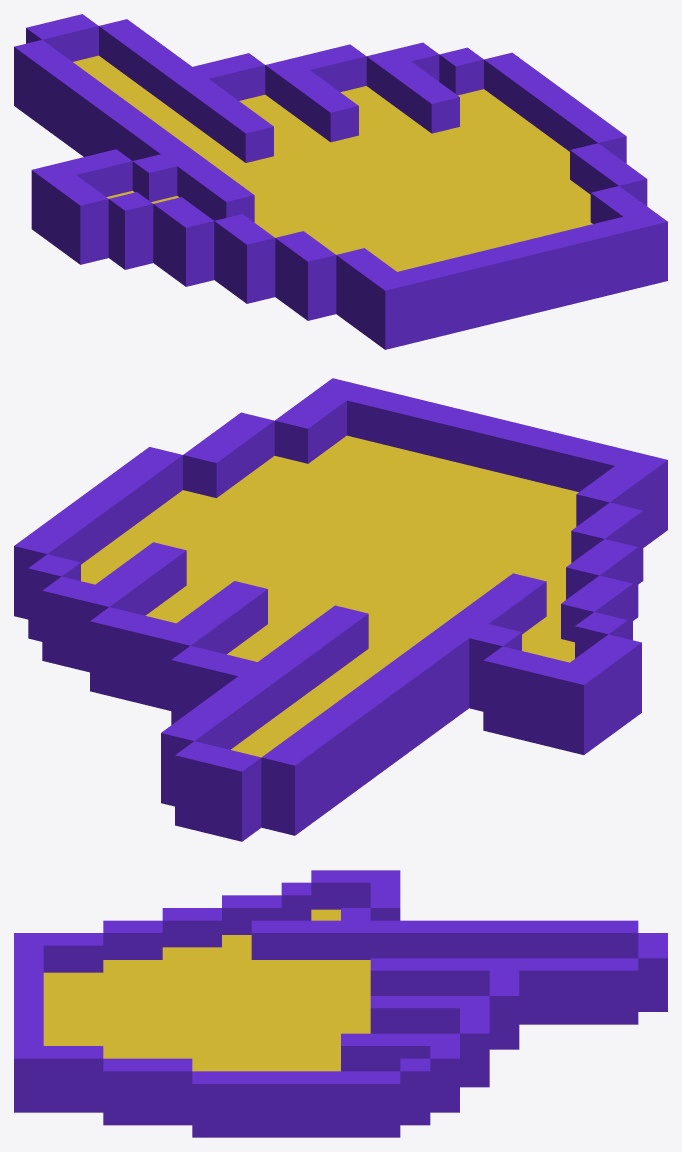
The model's file is cursor.fbx.
The picture shows the model from 3 angles, top to bottom: view 1: azimuth 30°, elevation 25°; view 2: azimuth 150°, elevation 25°; view 3: azimuth 270°, elevation 25°; orthographic projection. The views are drawn at different scales.
Parts seen in each view (by area): view 1: Finger; view 2: Finger; view 3: Finger.
Part boxes in pixels (x1,y1,x2,y2): Finger: (14,14,667,349); Finger: (14,378,667,841); Finger: (14,870,667,1137).
Bounding box in the file's own units: 170 × 20 × 220.
